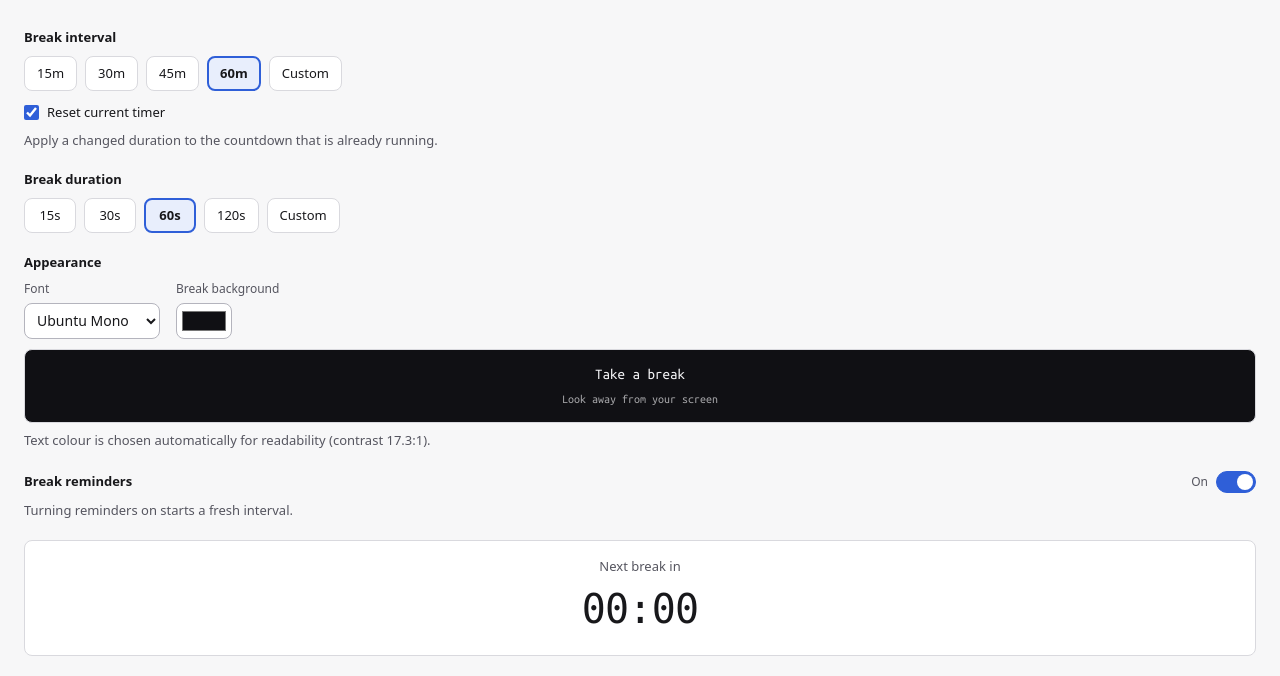
Test: configuring durations › saves a valid custom value and clears the error
Click the radio button labelled "Custom" in the row of "45". click: (305, 73)
box: [269,56,342,91]
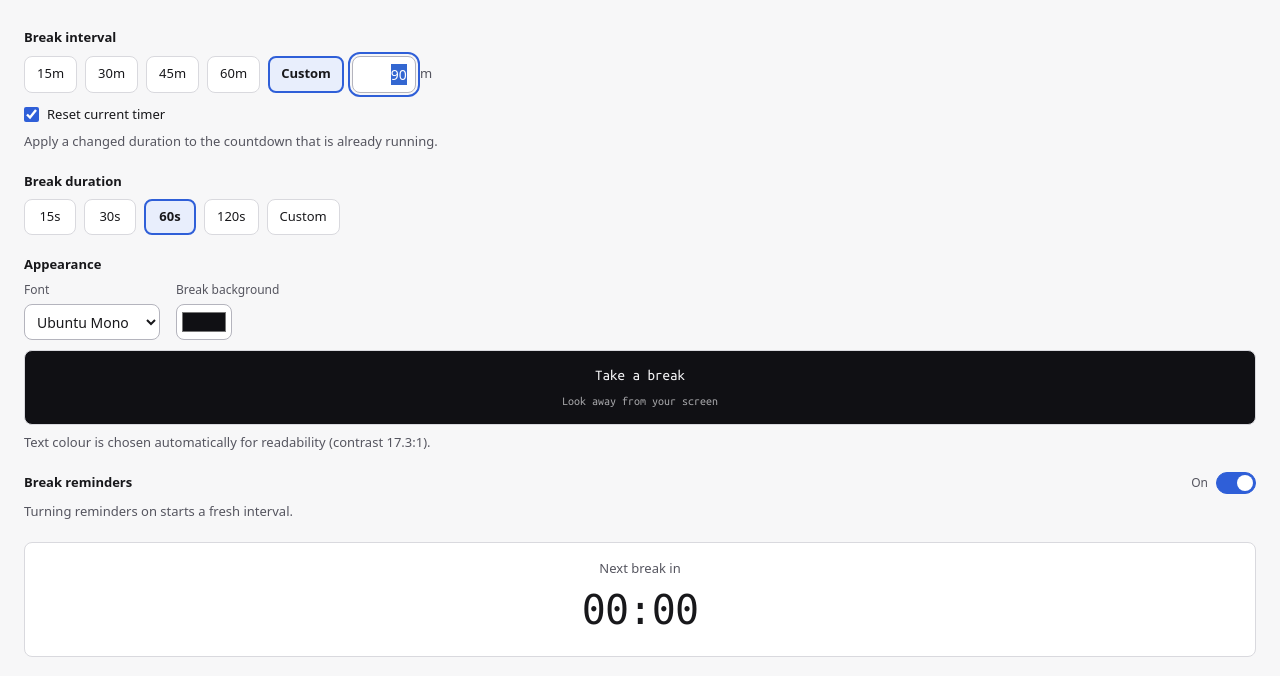
Clear the field named "Custom (minutes)". click: (384, 74)
box: [352,56,416,92]
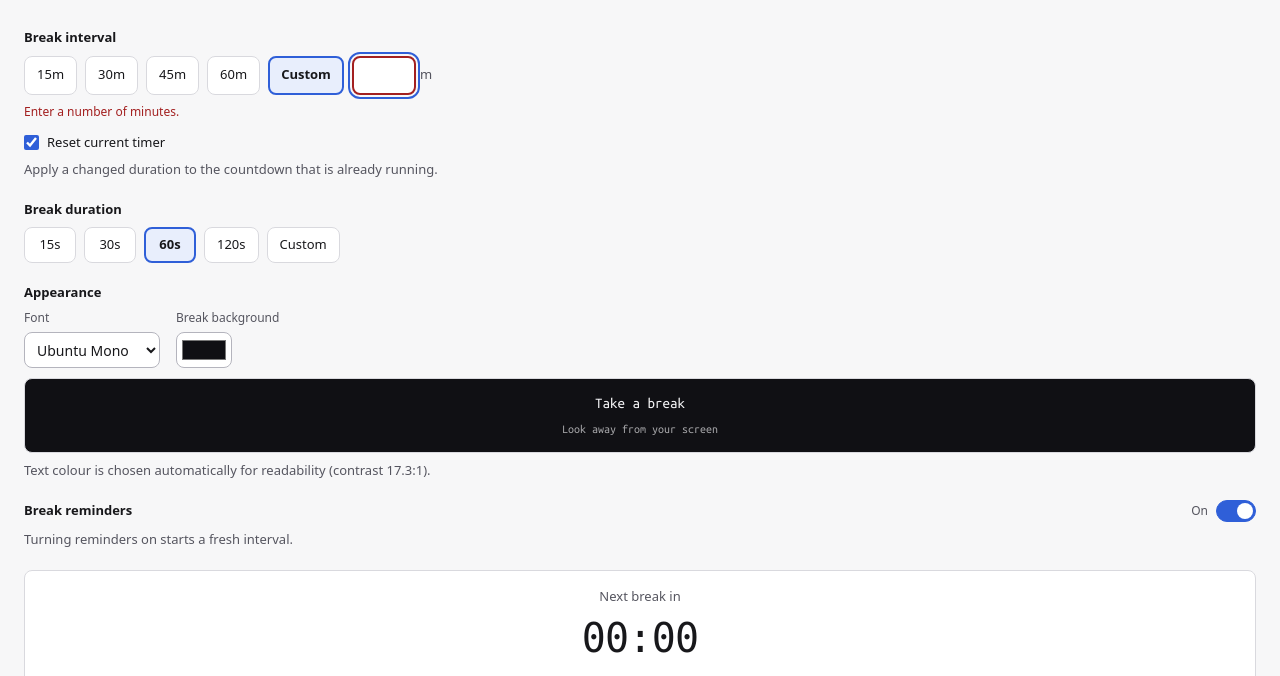
Type "25" into the field named "Custom (minutes)". click: (384, 75)
box: [352,56,416,94]
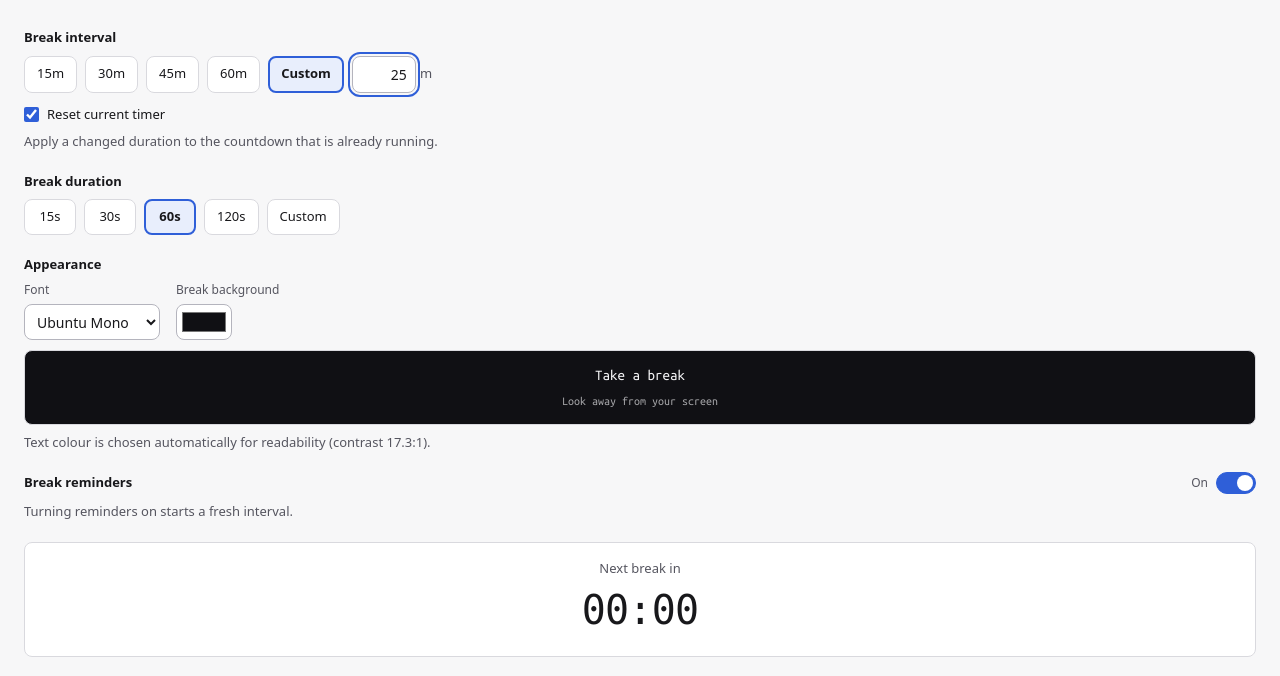
Expected: the message "Enter a number of minutes." is gone
